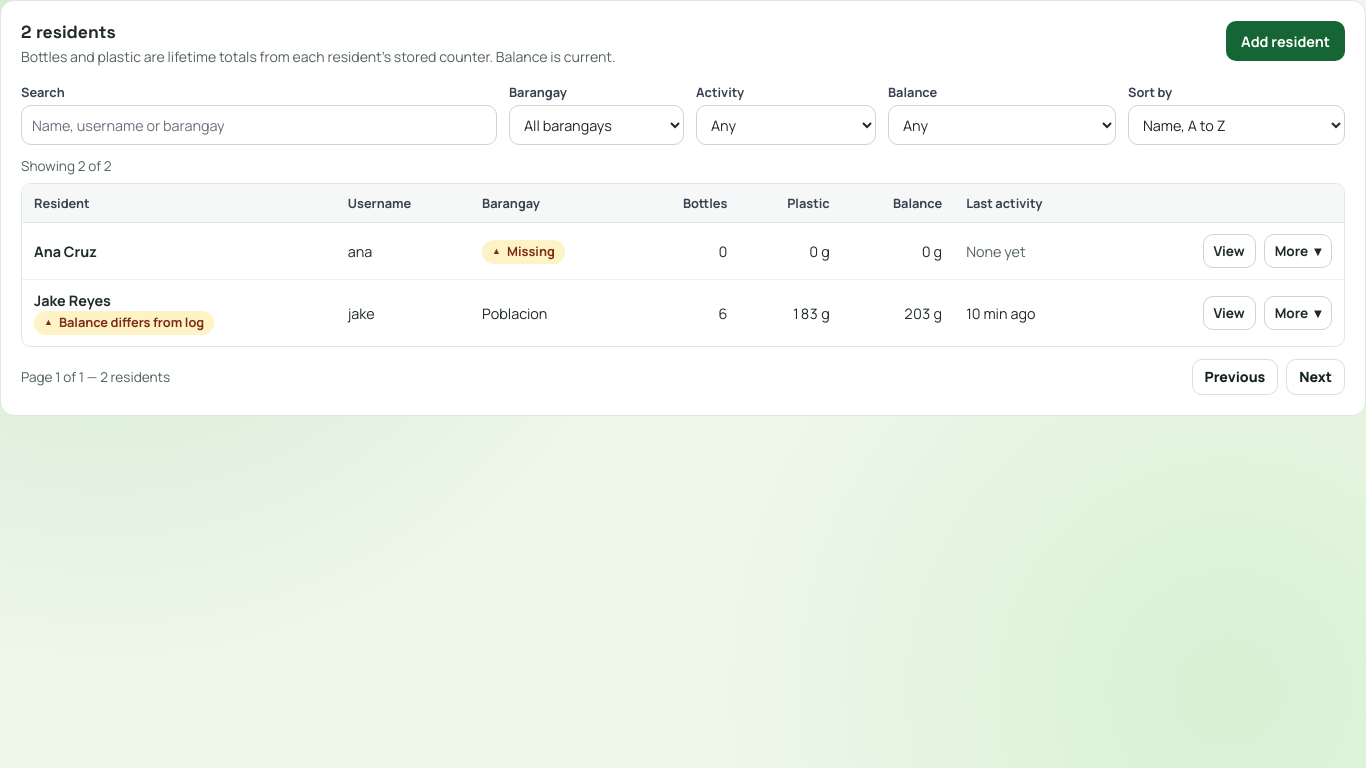
Test: residents › shows an empty state with a way to clear filters
Type "nobody" into the search field labelled "Search" at x=259, y=125, box [21, 105, 497, 145]
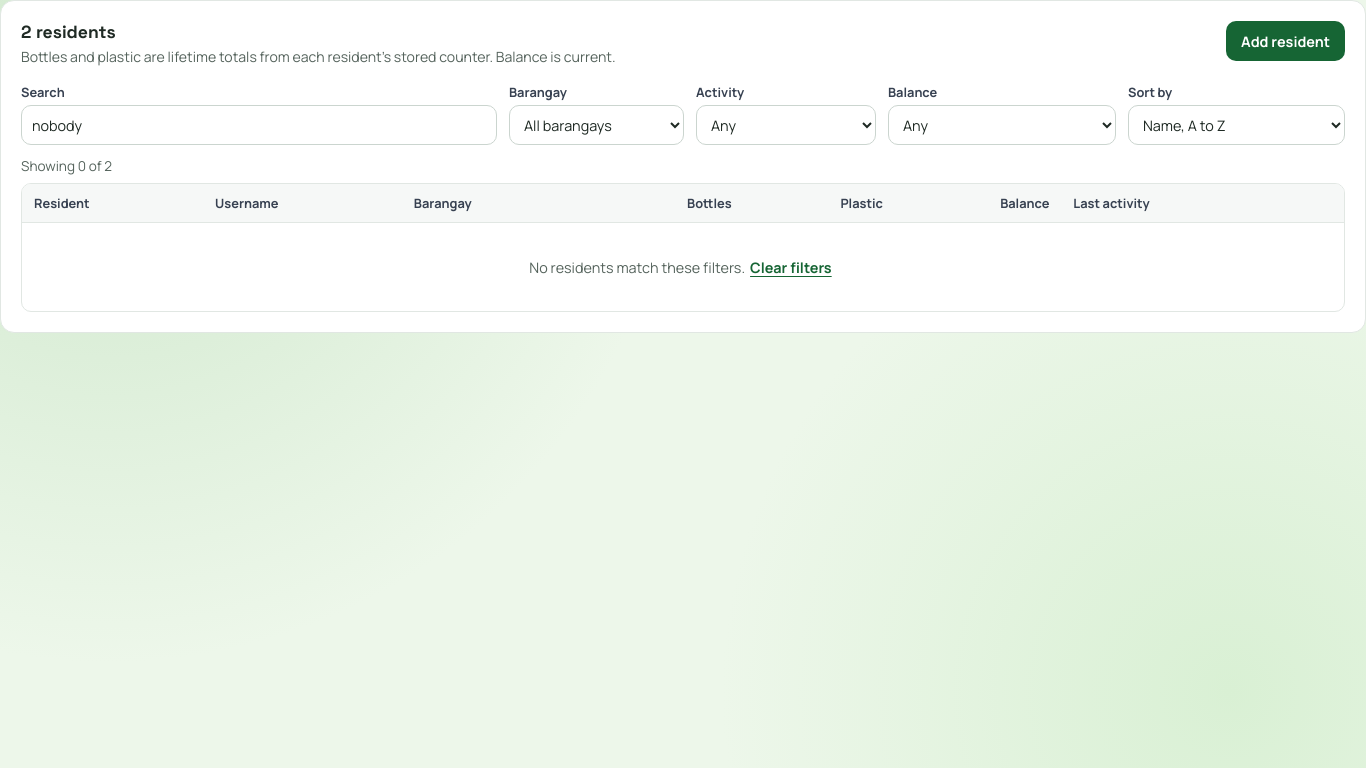
Expected: the text "No residents match these filters." is shown, [529, 258, 745, 277]
Click the button "Clear filters" at x=791, y=267, box [745, 251, 837, 283]
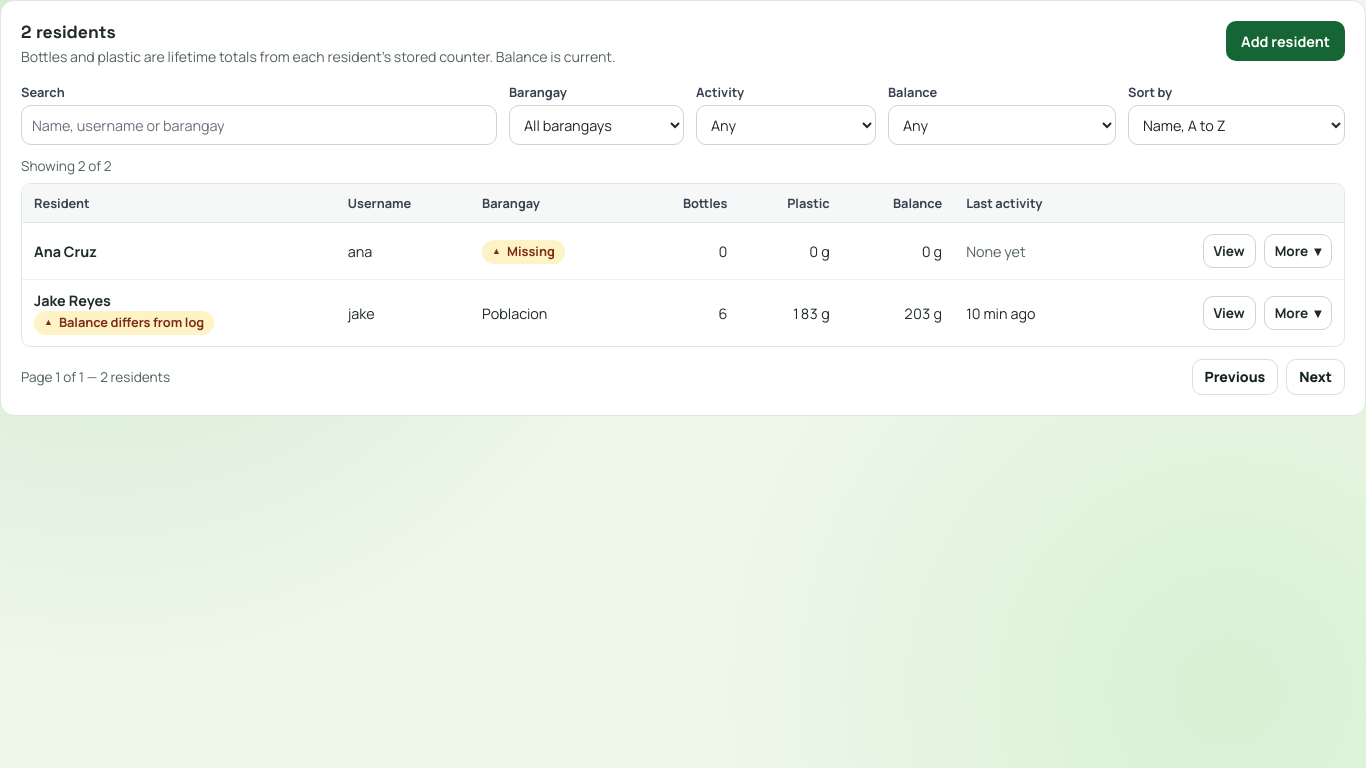
Expected: the text "Showing 2 of 2" is shown, [21, 157, 112, 175]
